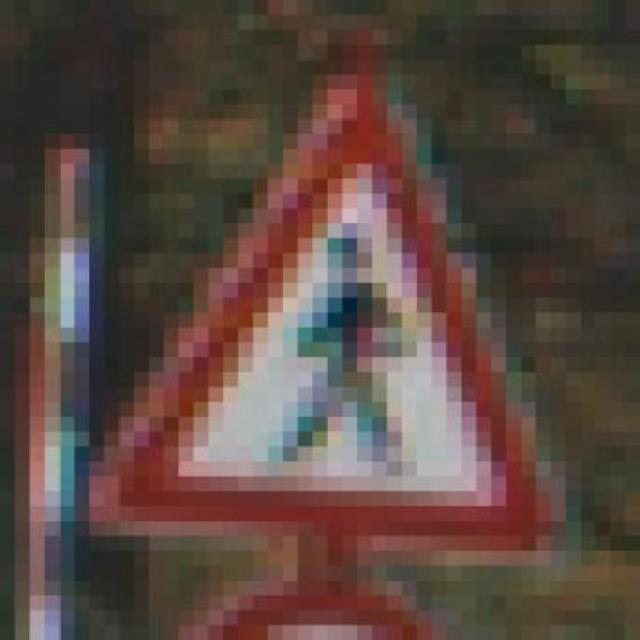Pedestrian Crossing: (94, 38, 572, 544)
